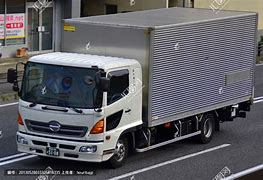bigtruck: (18, 6, 255, 159)
